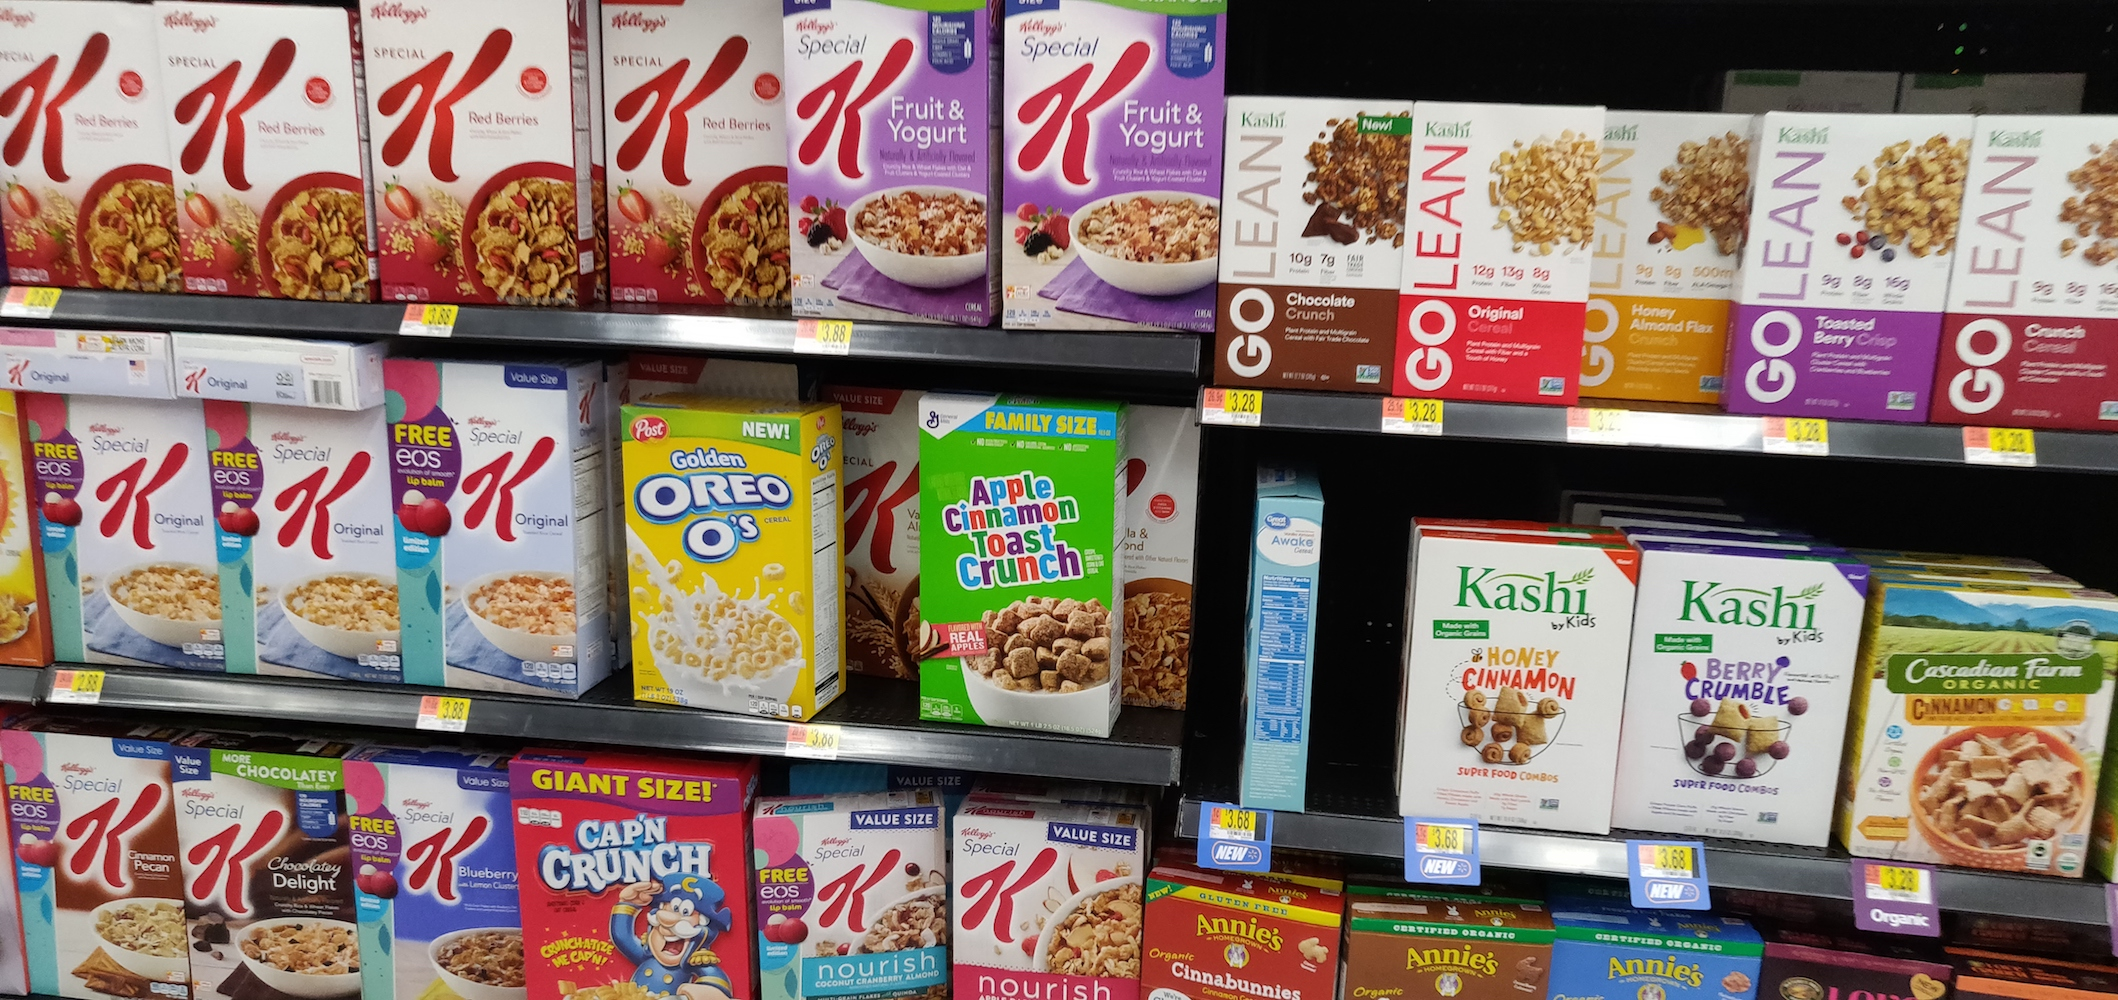Oreo Golden-568301011: (621, 403, 831, 718)
